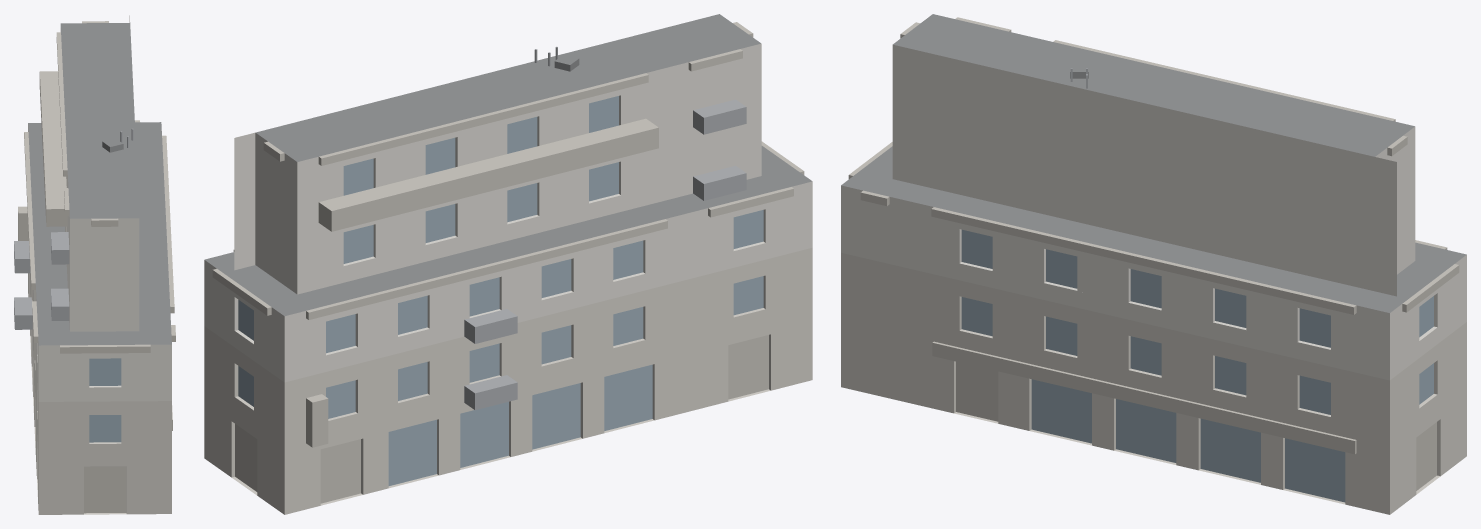
File: doitt-498980__lod_0.glb
The picture shows the model from 3 angles, left to right: view 1: azimuth 30°, elevation 25°; view 2: azimuth 150°, elevation 25°; view 3: azimuth 270°, elevation 25°; orthographic projection. The views are drawn at different scales.
Size of the model in its own units: 20.93 by 18.3 by 29.7.
